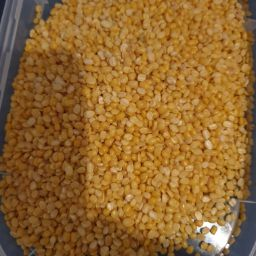Red Split Lentils(malka masar): (36, 5, 245, 253), (84, 20, 248, 236), (38, 81, 222, 256), (62, 43, 173, 202), (23, 96, 137, 219)
